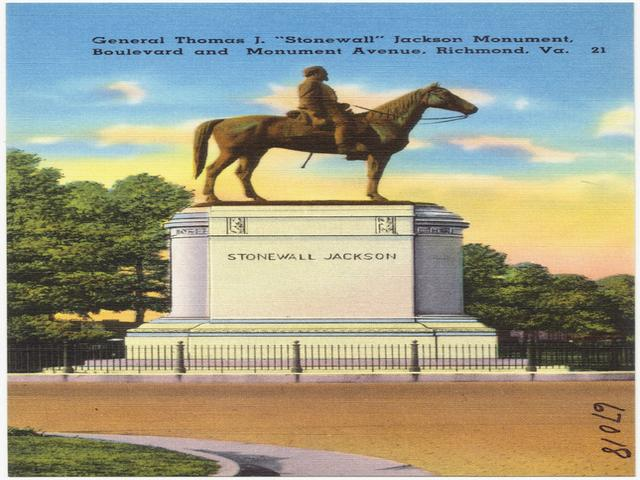horse: (147, 64, 563, 256)
